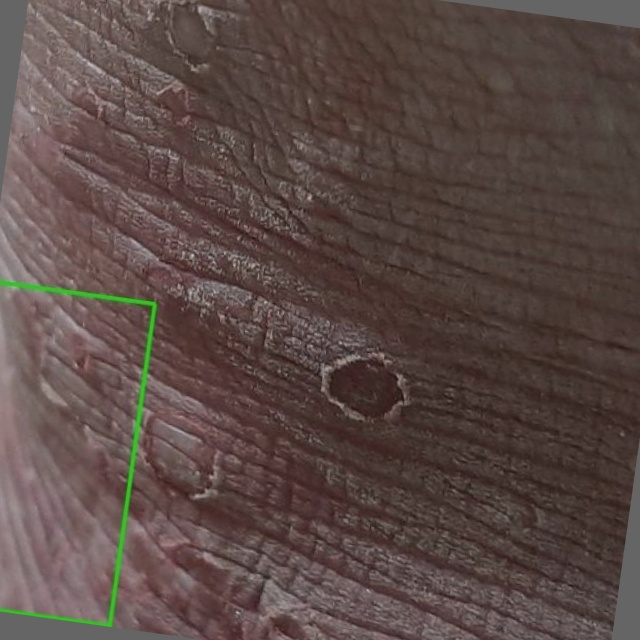Contact Dermatitis: (0, 282, 154, 625)
